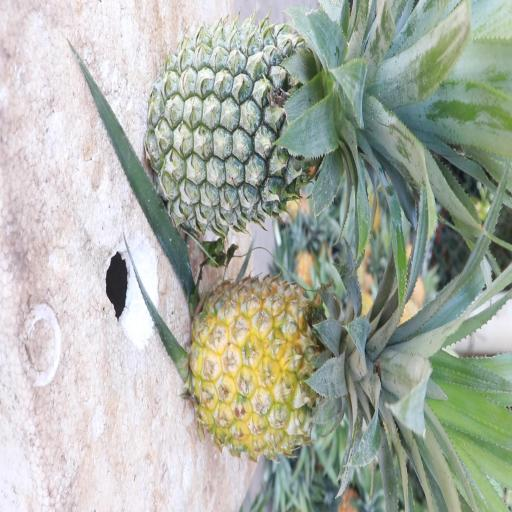Pineapple - v8 v1: (190, 271, 502, 487)
